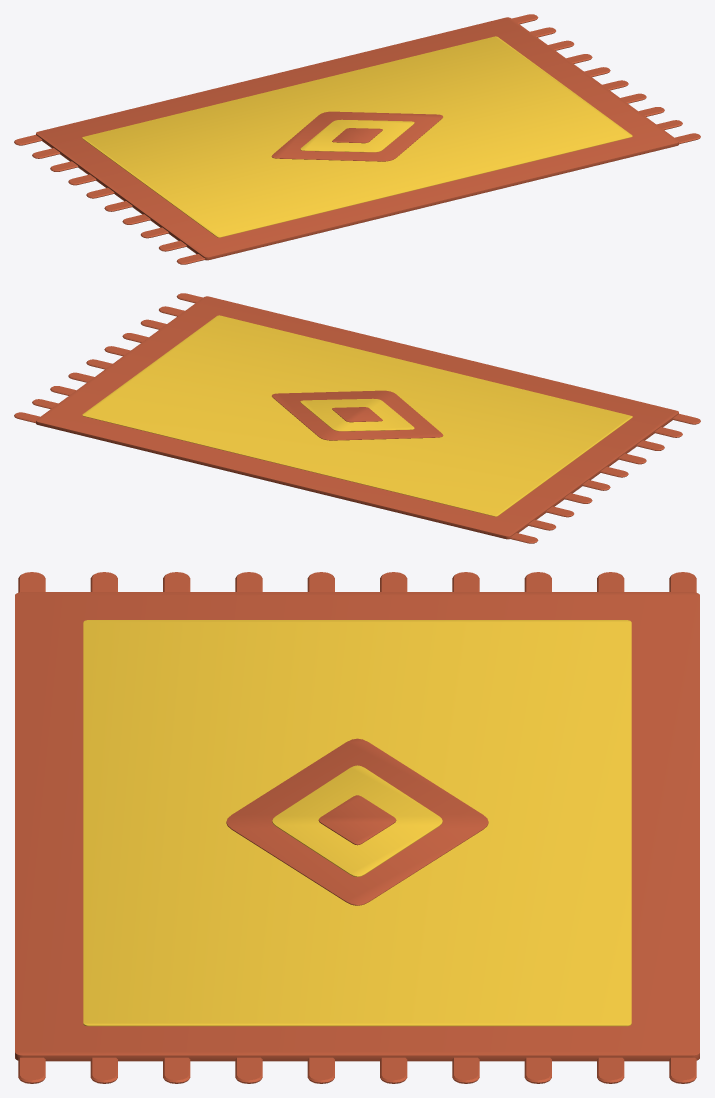
File: tapete_persa_losango_terracota.glb
The picture shows the model from 3 angles, top to bottom: view 1: azimuth 30°, elevation 25°; view 2: azimuth 150°, elevation 25°; view 3: azimuth 270°, elevation 25°; orthographic projection. The views are drawn at different scales.
Parts seen in each view (by area): view 1: tapete_persa_losango_terracota; view 2: tapete_persa_losango_terracota; view 3: tapete_persa_losango_terracota.
Boxes of the visible parts, bbox=[...] form: tapete_persa_losango_terracota: bbox=[14, 14, 700, 264]; tapete_persa_losango_terracota: bbox=[14, 293, 700, 543]; tapete_persa_losango_terracota: bbox=[15, 572, 699, 1083].
Bounding box in the file's own units: 1.76 × 0.0164 × 1.
1 material, 1 textured.
